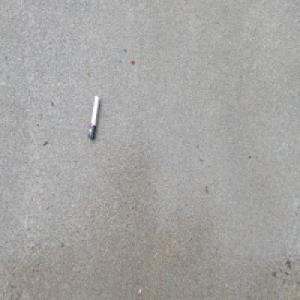Battery: (87, 92, 99, 139)
